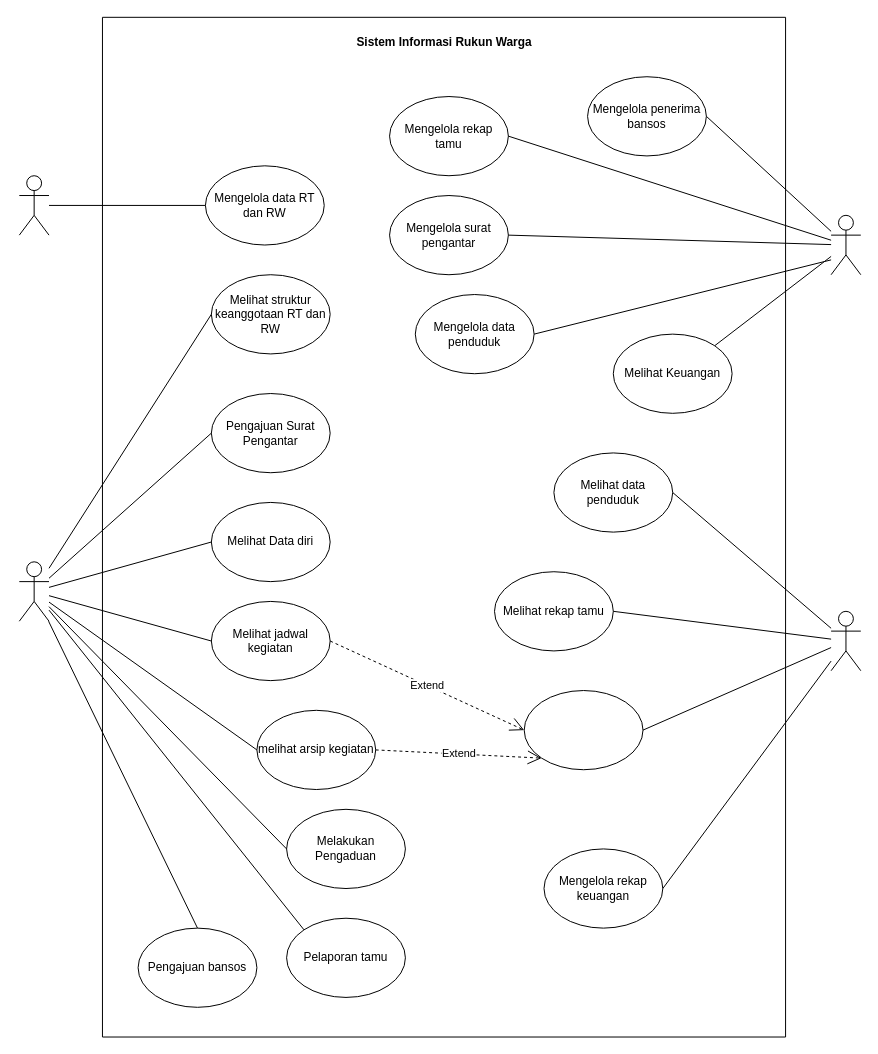
Some shapes in this 878 by 1054 pixel diagram are drawn without their labels. Here are the shapes that lost their labels. From the top down, the centre of each, then its label:
point (33, 205): Admin
point (845, 244): RT
point (33, 591): Warga
point (845, 640): RW
point (583, 730): Mengelola kegiatan
